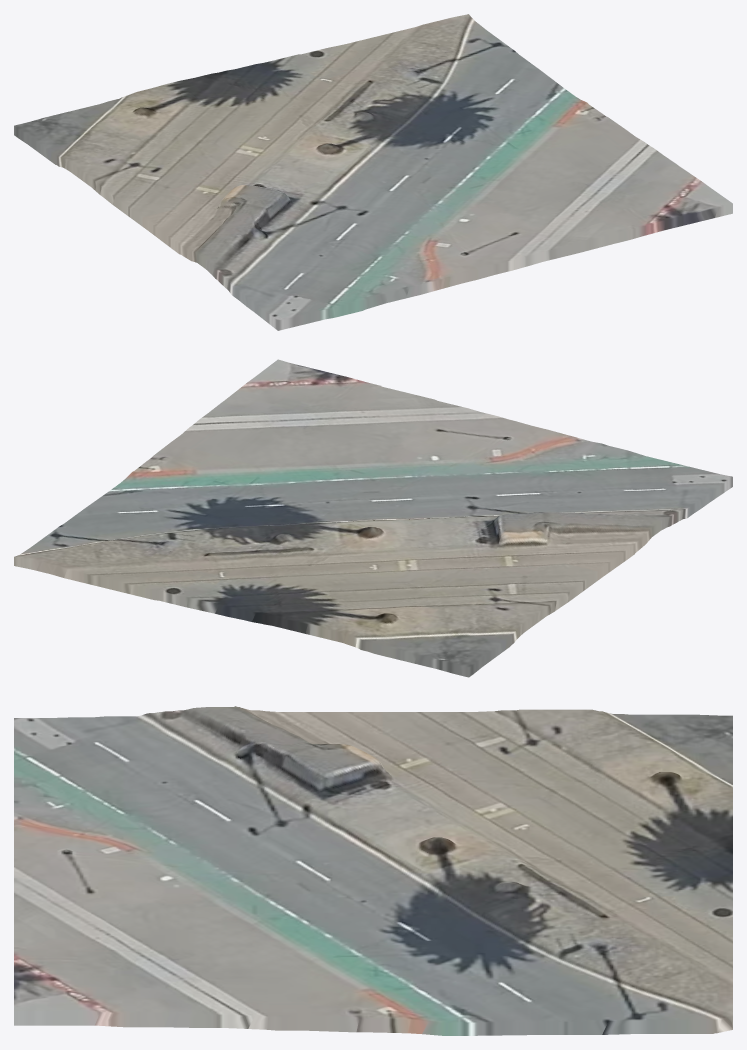
Rendered from z20-167768-405191-h0-yup-uvflip-v3-world.glb.
The picture shows the model from 3 angles, top to bottom: view 1: azimuth 30°, elevation 25°; view 2: azimuth 150°, elevation 25°; view 3: azimuth 270°, elevation 25°; orthographic projection. The views are drawn at different scales.
Bounding box in the file's own units: 30.16 × 1.8 × 30.32.
Materials: 1 (1 with a texture image).
